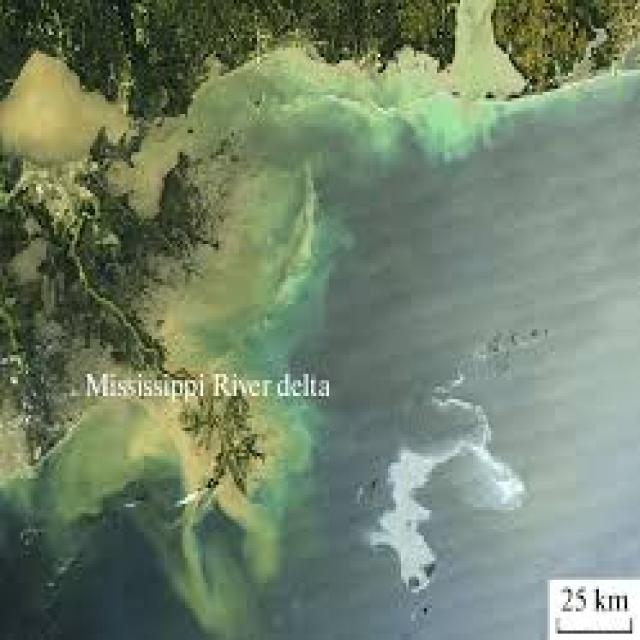algal: (24, 425, 251, 630), (276, 210, 316, 319)
oil spill: (368, 371, 524, 592)
